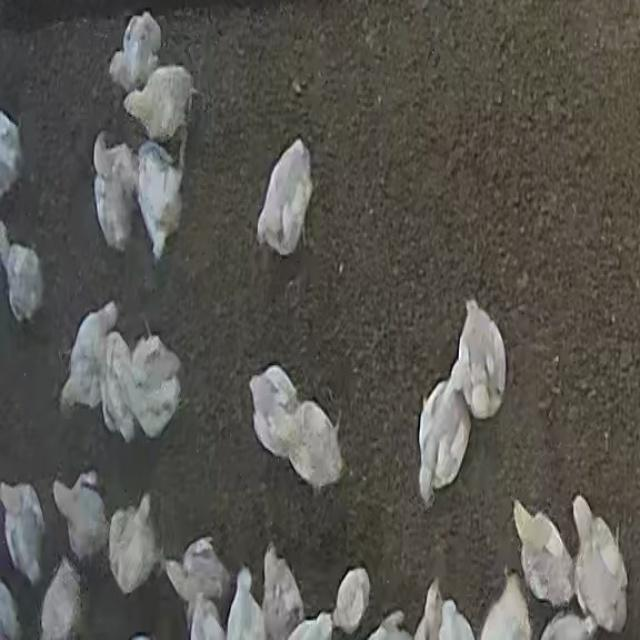chicken: (568, 490, 632, 633), (255, 134, 318, 262), (451, 295, 512, 427), (415, 376, 470, 507), (135, 129, 188, 263), (512, 496, 572, 612), (86, 132, 138, 262), (106, 488, 162, 596), (126, 62, 196, 146)
